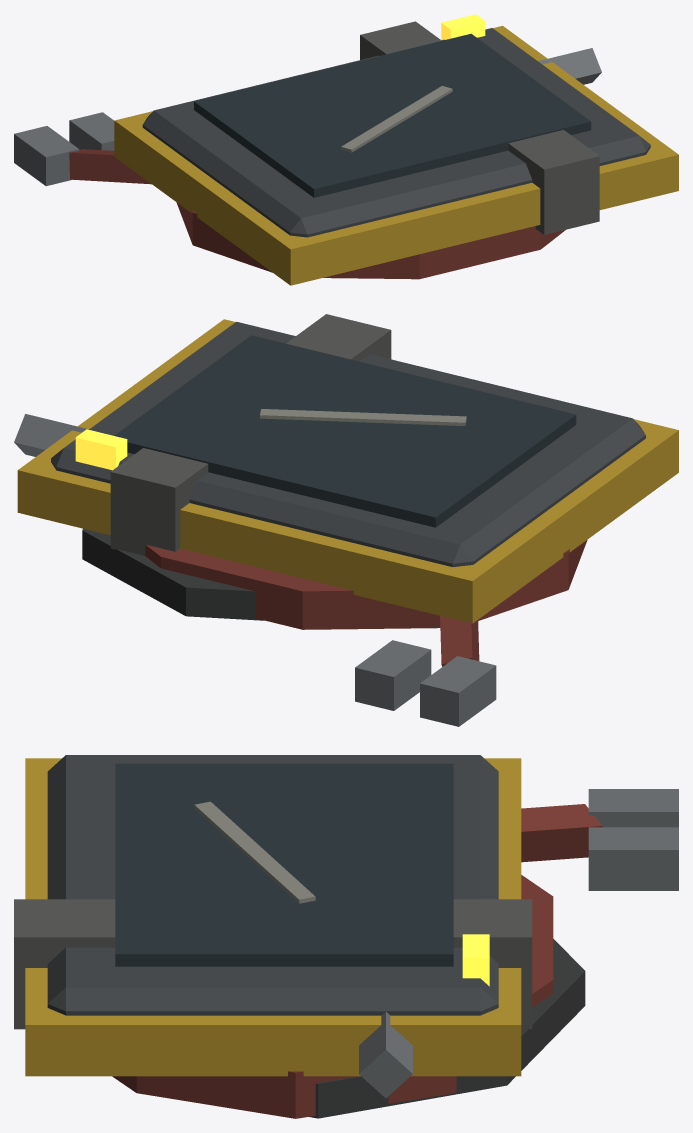
File: item_hacking_kit.glb
3 views of the same model, one above another, from view 1: azimuth 30°, elevation 25°; view 2: azimuth 150°, elevation 25°; view 3: azimuth 270°, elevation 25° (orthographic). The views are drawn at different scales.
Visible parts, largest first — view 1: hacking_kit; view 2: hacking_kit; view 3: hacking_kit.
Part boxes in pixels (bbox=[...]): hacking_kit: bbox=[14, 14, 678, 285]; hacking_kit: bbox=[14, 314, 678, 726]; hacking_kit: bbox=[14, 755, 678, 1118].
Bounding box in the file's own units: 0.342 × 0.0701 × 0.295.
